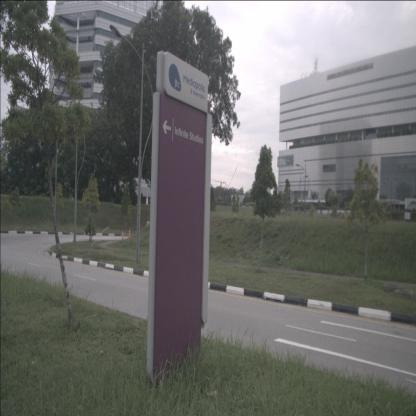cone: (128, 228, 131, 238), (122, 230, 124, 240)
